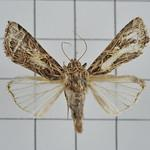Spodoptera litura: (2, 16, 150, 134)
